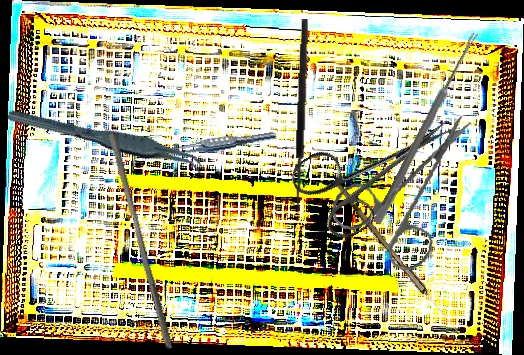Hook Surgical: (293, 18, 319, 214)
Iris Scissors: (285, 84, 473, 249), (321, 114, 490, 279)
Pusher: (101, 132, 182, 350)
Surgical Spoon: (372, 30, 480, 226), (331, 181, 462, 334)
Tissue Forceps: (6, 86, 210, 194), (165, 126, 278, 161)
